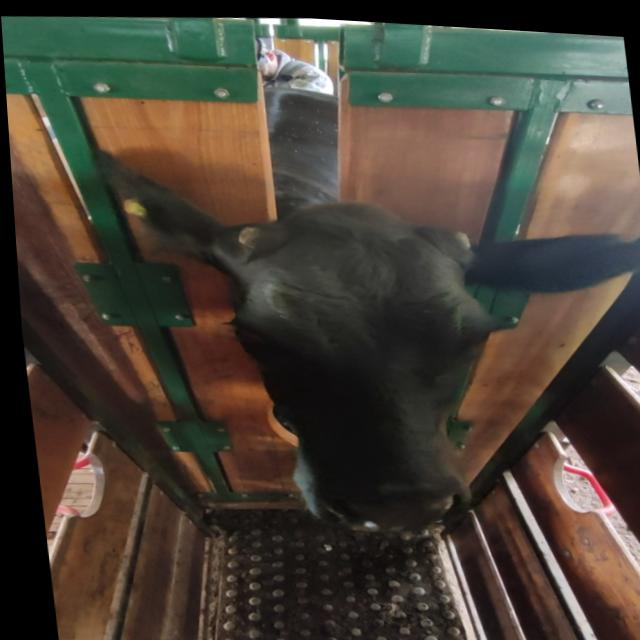cowFace: (226, 194, 521, 538)
